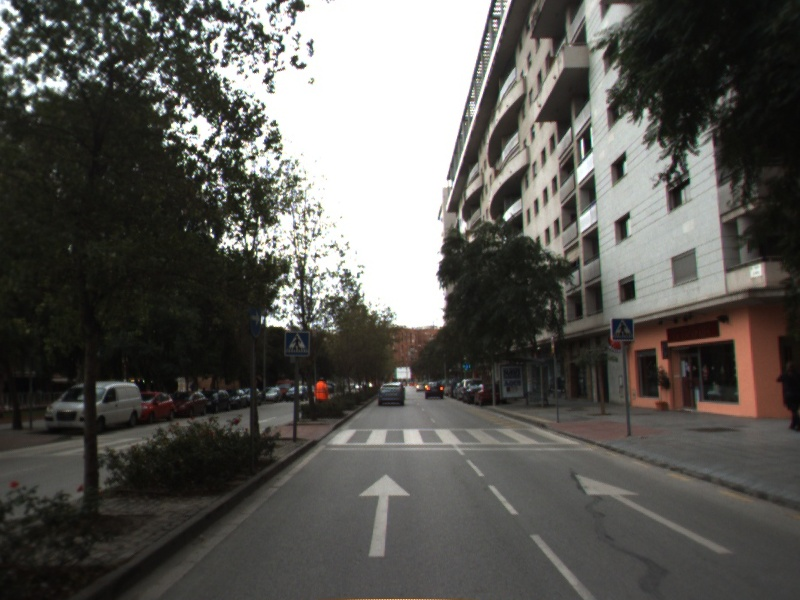STRAIGHT: (572, 470, 736, 556), (356, 471, 413, 559)
